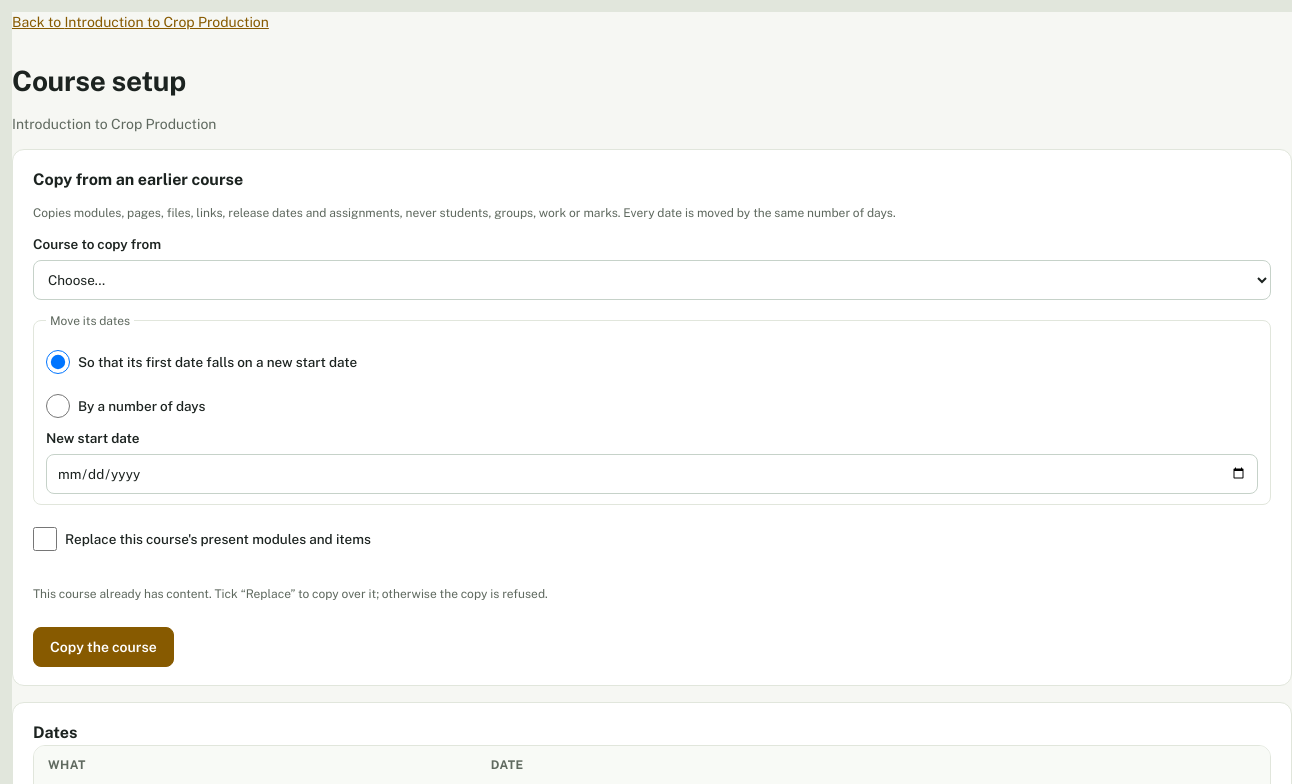
course setup for teaching staff (items 2.17, 2.18 and 2.20) › copies an earlier course to a new start date, replacing what is there, and reports what came across
The width and height of the screenshot is (1292, 784).
Check: the text "This course already has content" is shown, box 33,587 -> 548,601
Select "Soils and Plant Nutrition (2025-26) (AGR102-2025-26-S1-MRP)" in the dropdown labelled "Course to copy from": (652, 280) 33,260 -> 1271,300
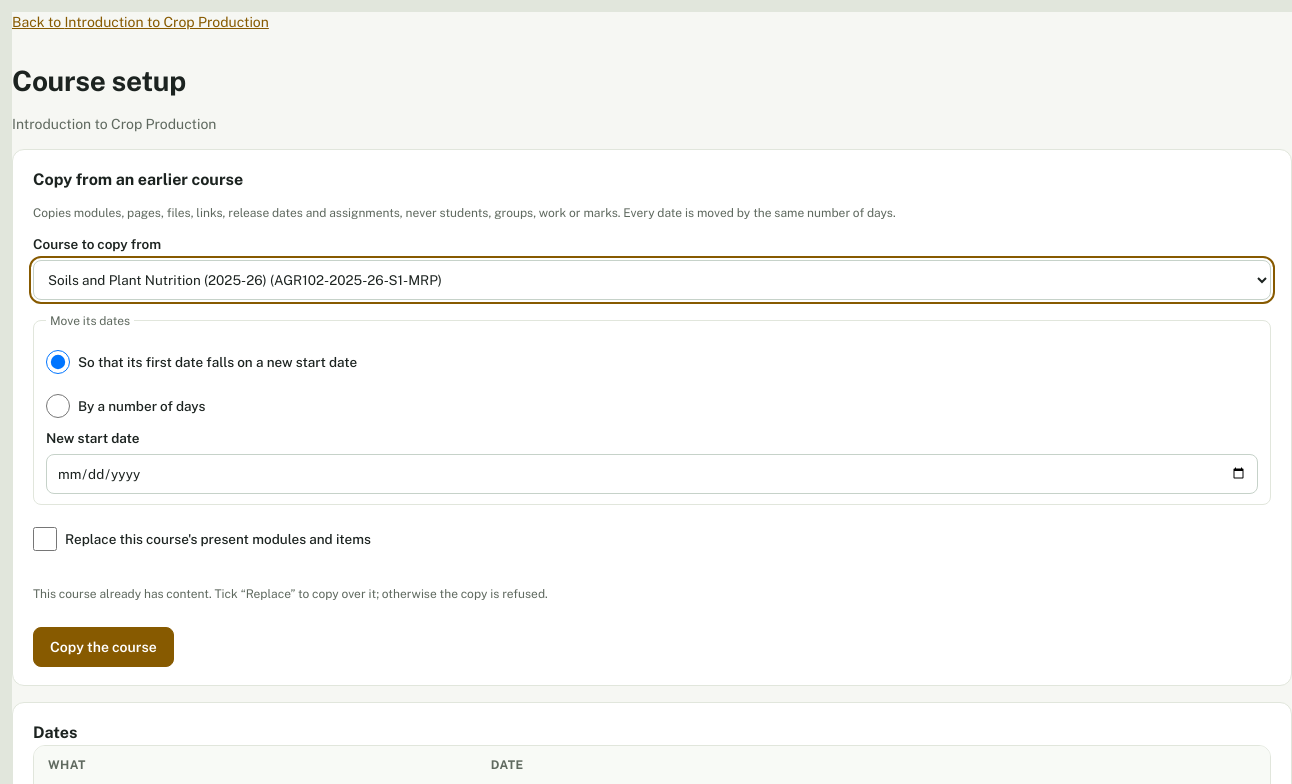
In the date field labelled "New start date": (652, 474) 46,454 -> 1258,494, type "2027-01-11"
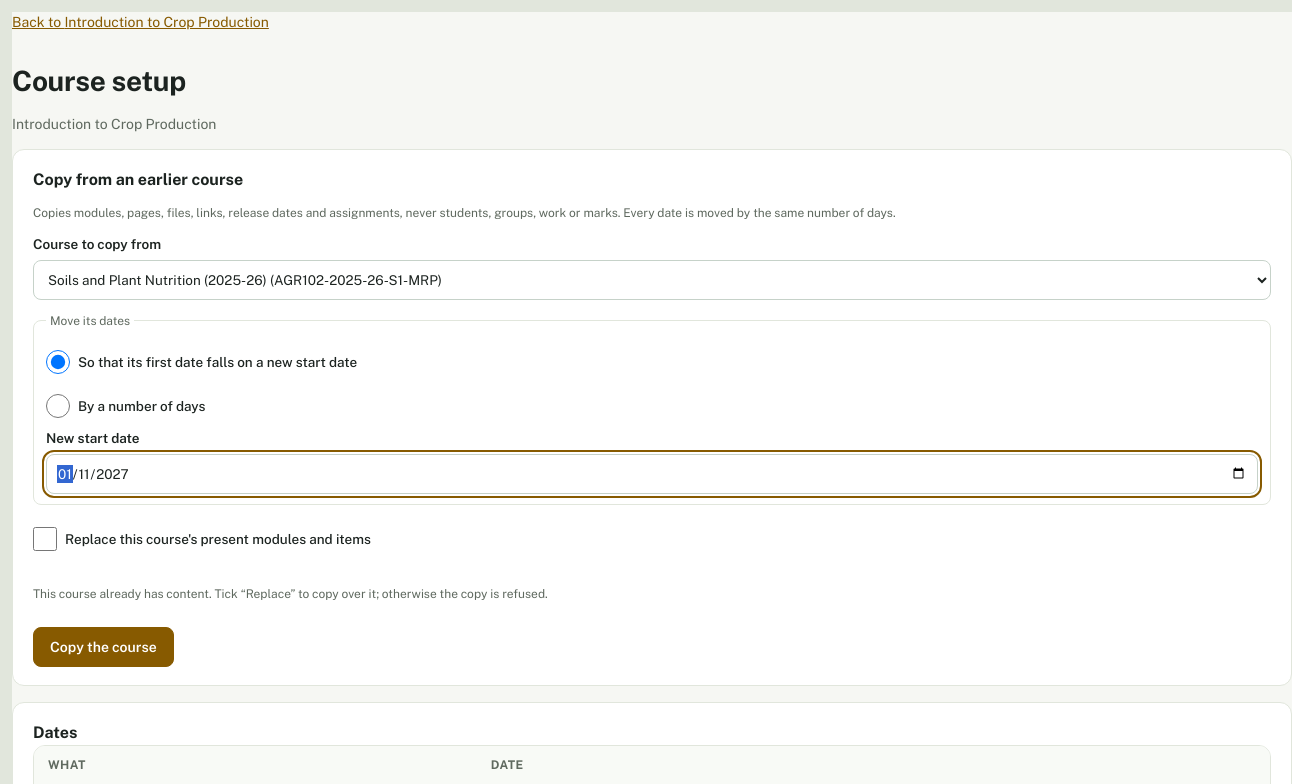
Click the checkbox labelled "Replace this course's present modules and items": (45, 539) 33,527 -> 57,551
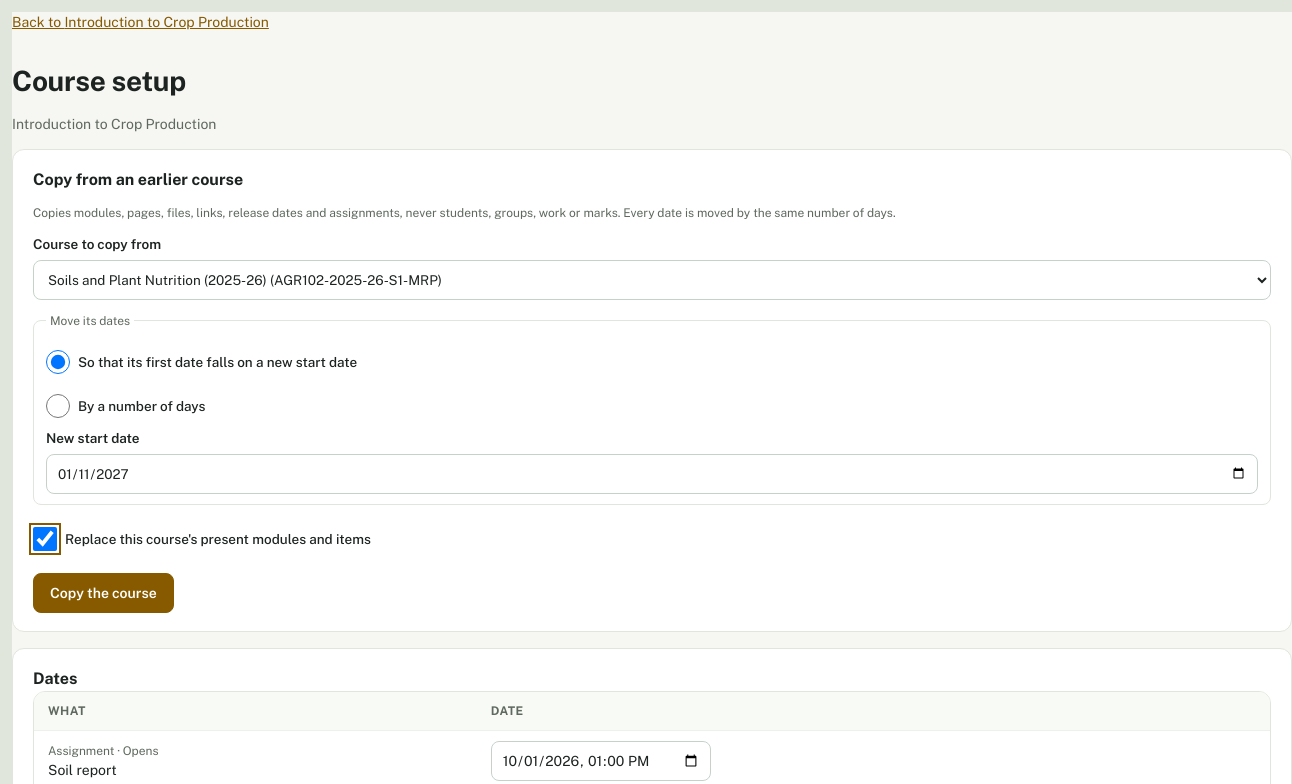
Click the button "Copy the course": (103, 593) 33,573 -> 174,613
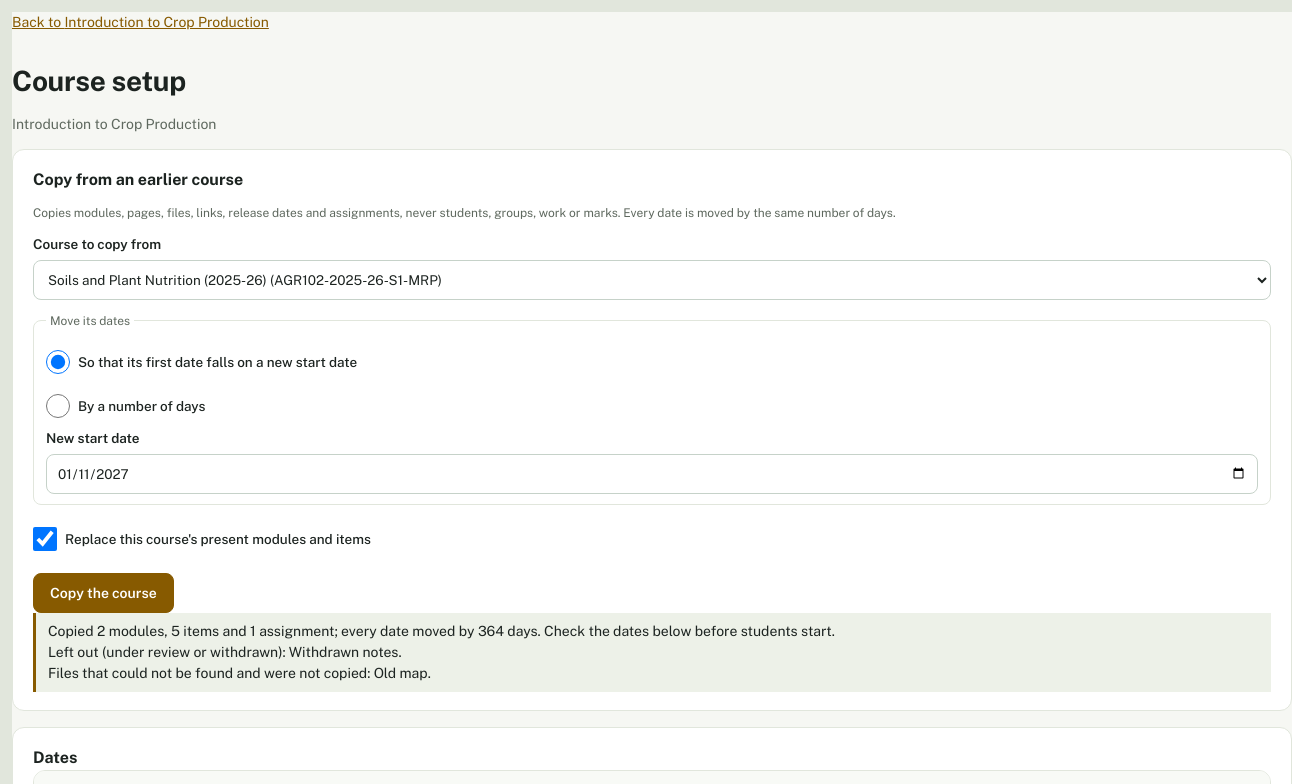
Check: the message shows "Copied 2 modules, 5 items and 1 assignment; every date moved by 364 days.", box 33,613 -> 1271,692
Check: the message shows "Left out (under review or withdrawn): Withdrawn notes.", box 33,613 -> 1271,692
Check: the message shows "not copied: Old map.", box 33,613 -> 1271,692
